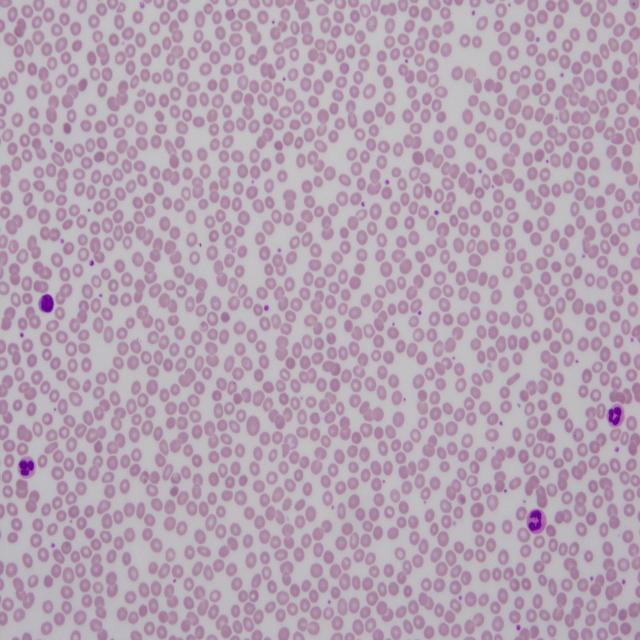cell: (526, 508, 546, 534), (608, 403, 624, 427), (18, 456, 35, 478)
